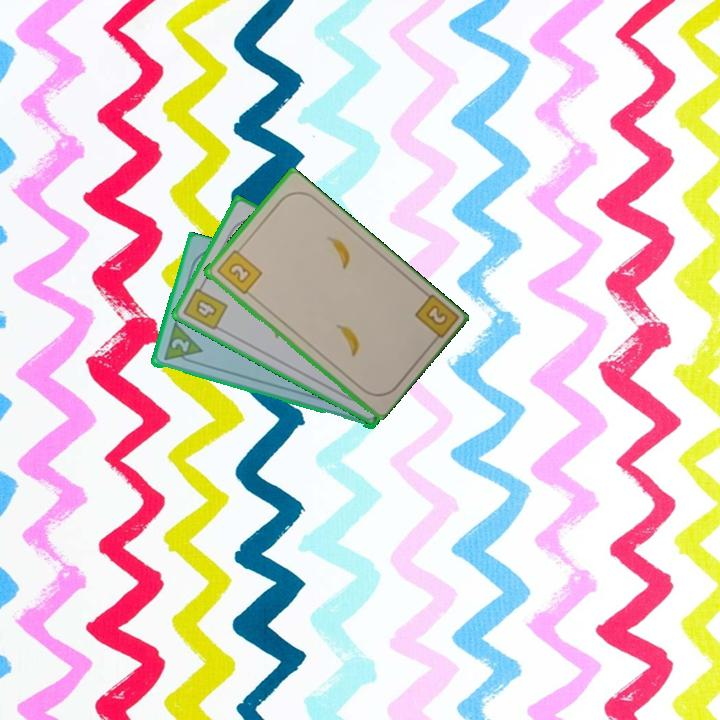2b: (410, 290, 459, 348), (213, 243, 264, 297)
2p: (167, 335, 192, 355)
4b: (180, 279, 231, 333)
